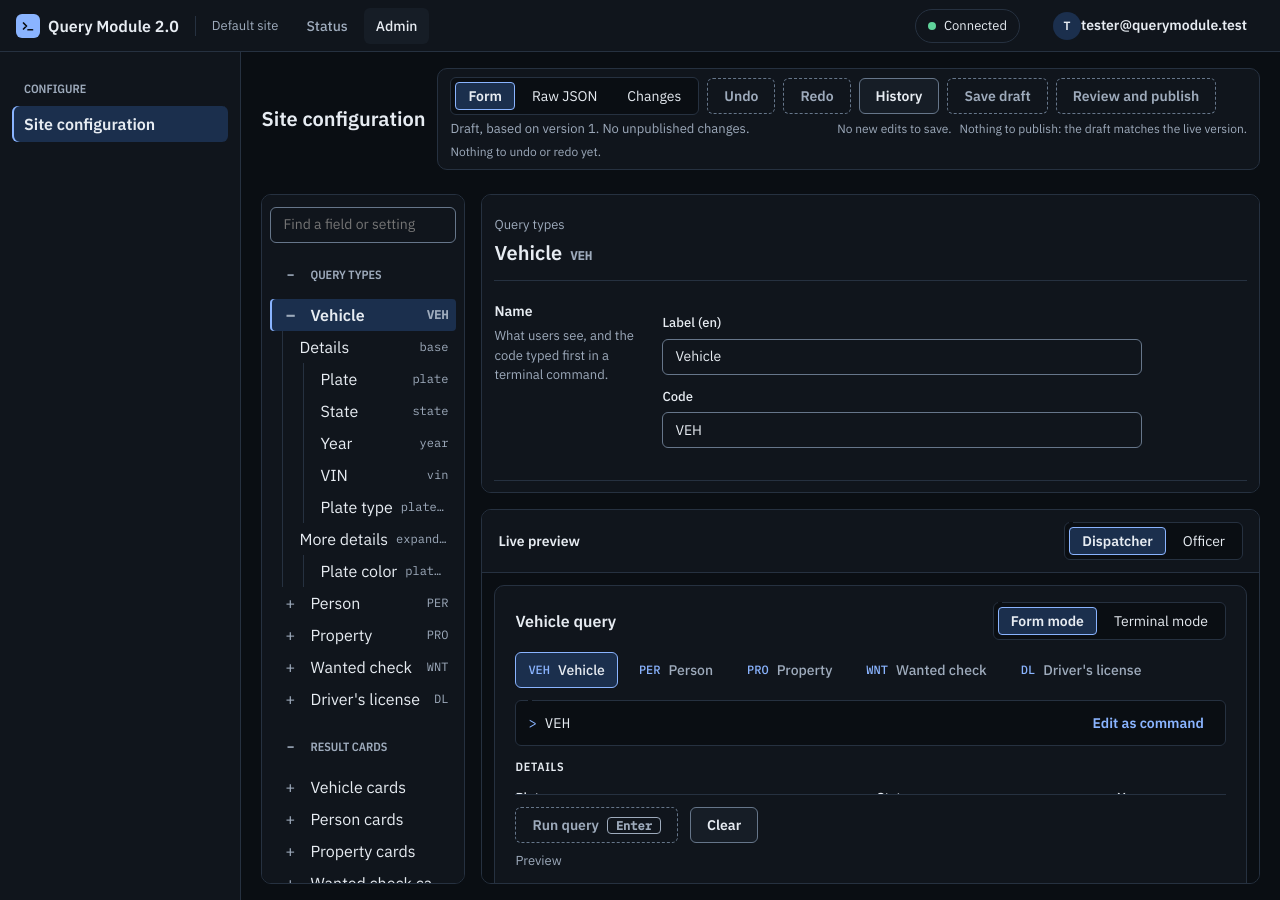
Test: Changes view (item 4) › is the third view, and says there is nothing to show when the draft matches live
This screenshot has width=1280, height=900.
Expected: the tab "Form" is shown, [456,82,515,110]
Step 1. Click the tab "Changes" → (654, 96), box [614,82,694,110]
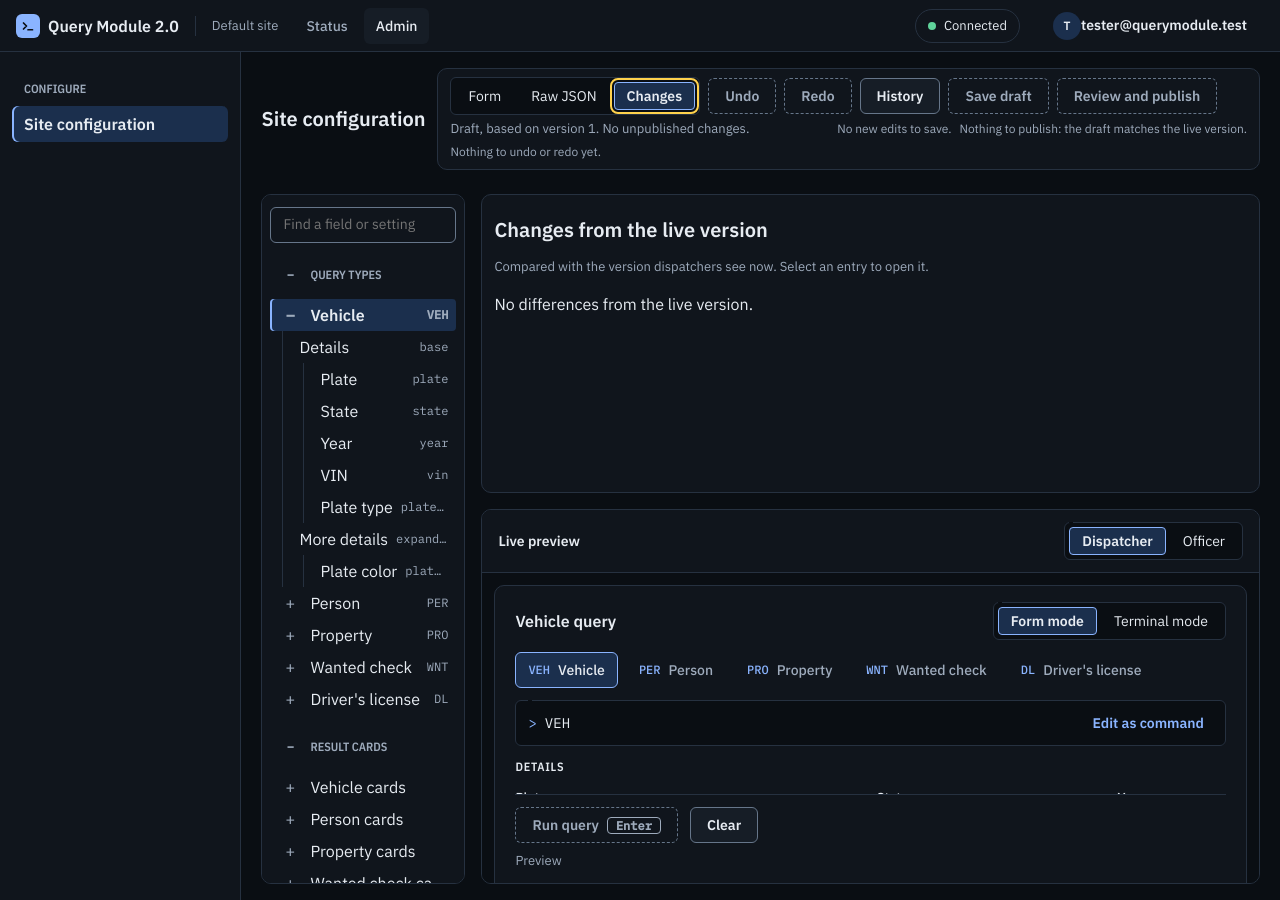
Result: the text "No differences from the live version." is shown at [494,294,753,314]
